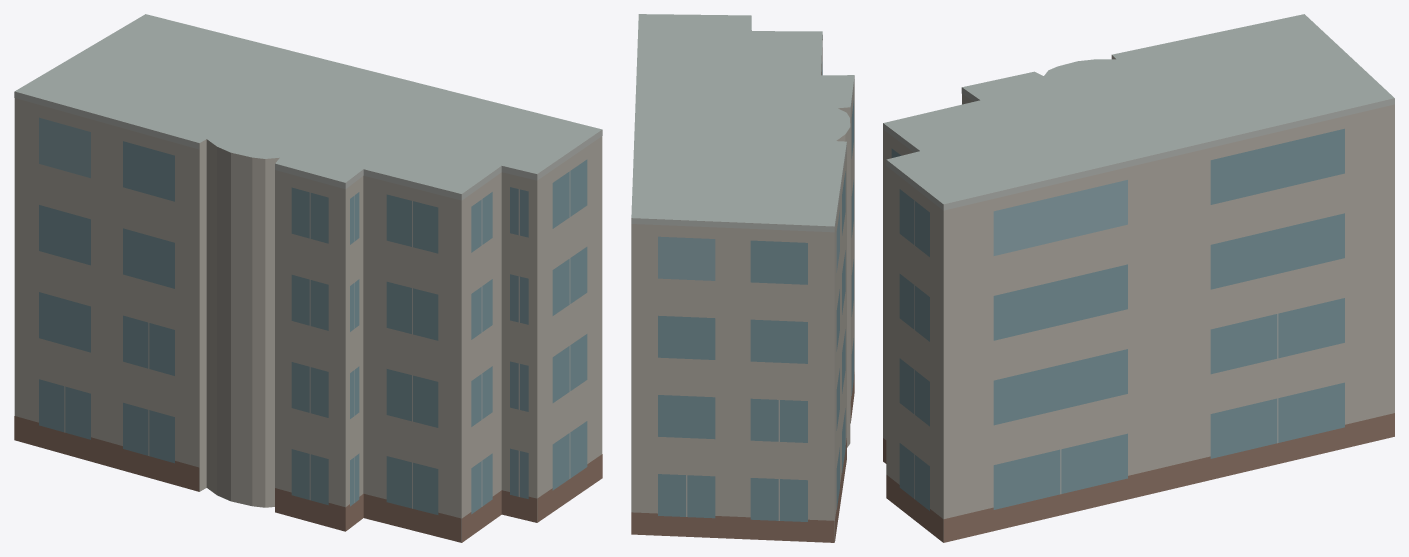
The model's file is survey-upis-32684517.glb.
3 views of the same model, side by side, from view 1: azimuth 30°, elevation 25°; view 2: azimuth 150°, elevation 25°; view 3: azimuth 270°, elevation 25° (orthographic). The views are drawn at different scales.
Visible parts, largest first — view 1: survey-upis-32684517.tmp; view 2: survey-upis-32684517.tmp; view 3: survey-upis-32684517.tmp.
Boxes of the visible parts, box(x1,y1,x2,y2) form: survey-upis-32684517.tmp: box(14, 14, 602, 542); survey-upis-32684517.tmp: box(631, 14, 854, 542); survey-upis-32684517.tmp: box(883, 14, 1394, 542).
Size of the model in its own units: 15.93 by 13.2 by 18.1.
